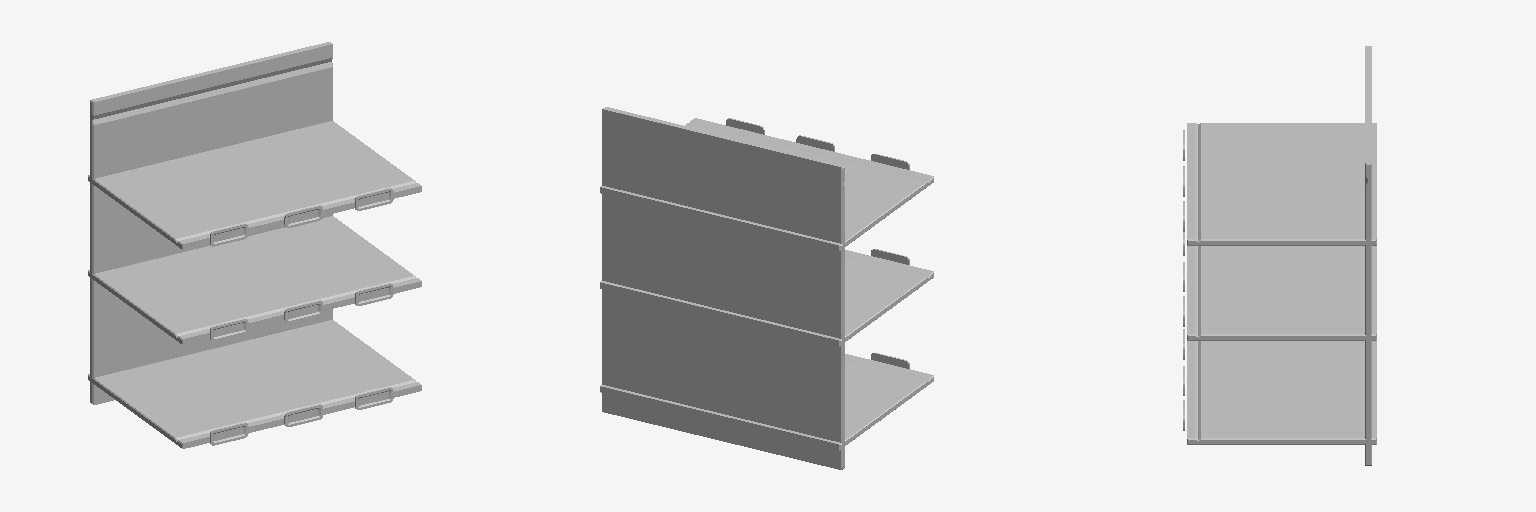
Rendered from estante4.obj.
The picture shows the model from 3 angles: view 1: azimuth 30°, elevation 25°; view 2: azimuth 150°, elevation 25°; view 3: azimuth 270°, elevation 25°; orthographic projection.
Visible parts, largest first — view 1: Estantes:hypercasual_prop037; view 2: Estantes:hypercasual_prop037; view 3: Estantes:hypercasual_prop037.
Boxes of the visible parts, <box> form: Estantes:hypercasual_prop037: <box>88,42,421,448</box>; Estantes:hypercasual_prop037: <box>600,107,933,469</box>; Estantes:hypercasual_prop037: <box>1183,46,1376,465</box>.
Size of the model in its own units: 5.79 by 6.96 by 4.02.